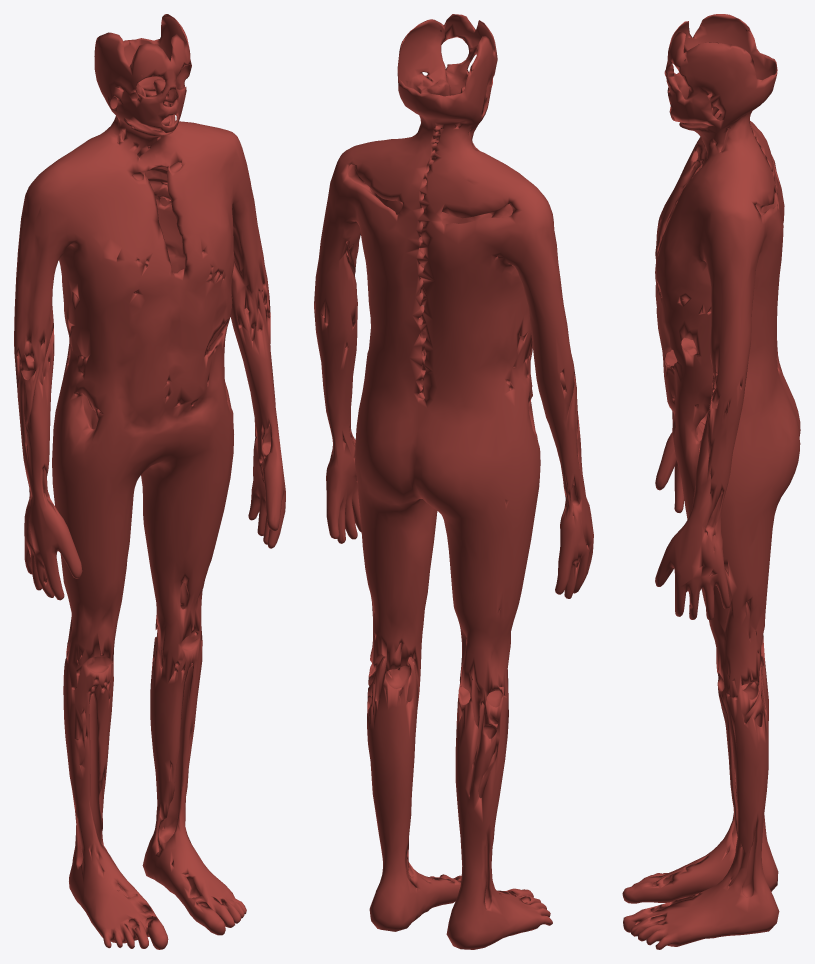
The model's file is pediatric_adolescent_male.muscular.LOD1.glb.
The picture shows the model from 3 angles, left to right: view 1: azimuth 30°, elevation 25°; view 2: azimuth 150°, elevation 25°; view 3: azimuth 270°, elevation 25°; orthographic projection.
Parts seen in each view (by area): view 1: PEDIATRIC.ADOLESCENT.MALE.MUSCULAR.MUSCLE; view 2: PEDIATRIC.ADOLESCENT.MALE.MUSCULAR.MUSCLE; view 3: PEDIATRIC.ADOLESCENT.MALE.MUSCULAR.MUSCLE.
Boxes of the visible parts, x1,y1,x2,y2 form: PEDIATRIC.ADOLESCENT.MALE.MUSCULAR.MUSCLE: [14, 14, 285, 949]; PEDIATRIC.ADOLESCENT.MALE.MUSCULAR.MUSCLE: [314, 14, 593, 949]; PEDIATRIC.ADOLESCENT.MALE.MUSCULAR.MUSCLE: [622, 14, 800, 949].
Bounding box in the file's own units: 0.4872 × 1.64 × 0.2963.
